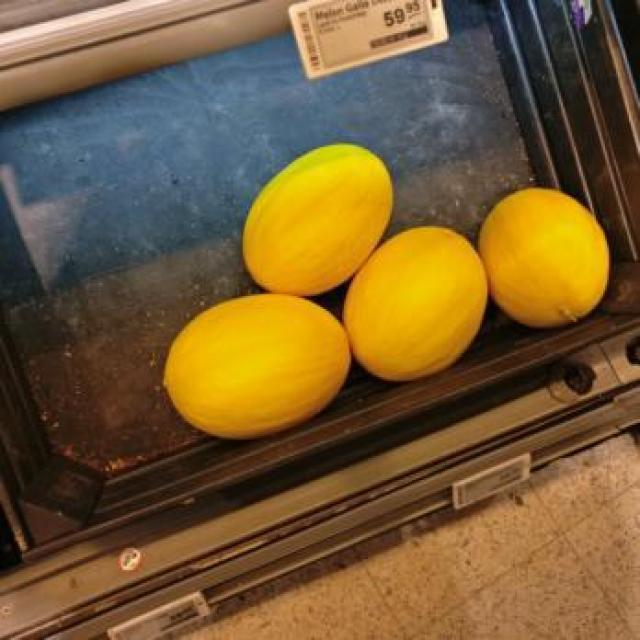Galia: (165, 285, 354, 440), (236, 138, 408, 294), (337, 216, 488, 384), (478, 180, 618, 331)
